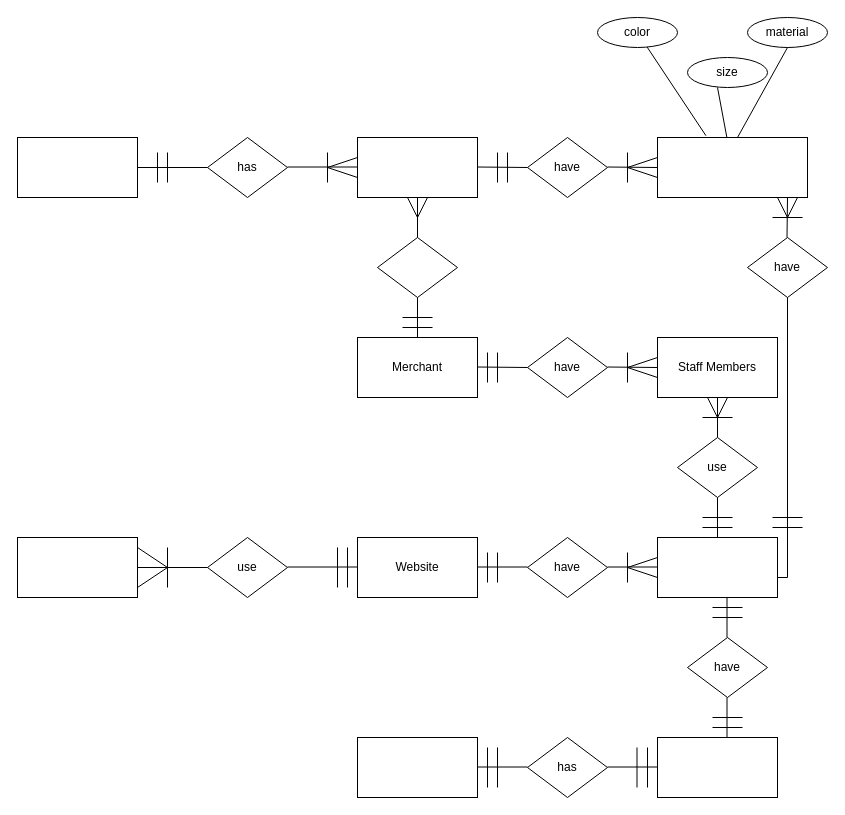
Image size: 845x815. Some labels were removed from this diagram. The shapes that lost their labels are listed below. From the top down, each one's box as (x1, y1, x2, y2) in pixels, then its label:
(16, 136, 138, 198): Marketplace
(356, 136, 478, 198): Store
(656, 136, 808, 198): Product
(376, 236, 458, 298): owned
(16, 536, 138, 598): Customers
(656, 536, 778, 598): Dashboard
(356, 736, 478, 798): checkout
(656, 736, 778, 798): Cart
